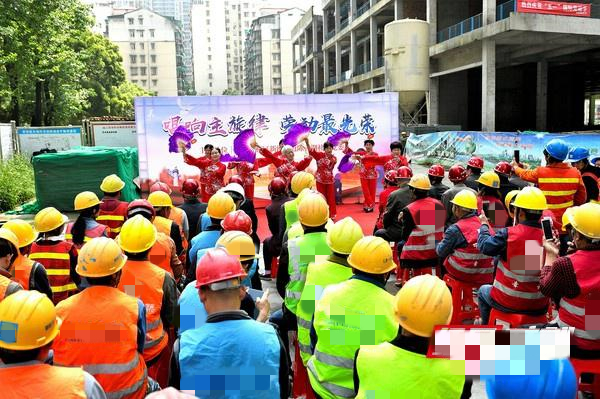helmet: (1, 289, 63, 350), (395, 275, 452, 338), (195, 245, 249, 292), (194, 245, 245, 290), (75, 237, 127, 277), (347, 235, 396, 275), (349, 236, 396, 274), (328, 216, 364, 255), (119, 215, 157, 251), (215, 231, 259, 257), (571, 202, 600, 240), (1, 218, 38, 245), (298, 194, 329, 226), (511, 186, 548, 210), (35, 207, 68, 231), (220, 209, 253, 233), (206, 191, 234, 218), (449, 188, 477, 210), (74, 190, 103, 210), (291, 172, 316, 194), (99, 173, 127, 192), (545, 138, 568, 161), (1, 227, 19, 256), (221, 182, 246, 202), (127, 198, 154, 214), (475, 172, 500, 189), (266, 178, 286, 197), (148, 191, 171, 207), (182, 180, 201, 197), (449, 165, 469, 181), (569, 146, 590, 161), (494, 161, 511, 175), (427, 164, 445, 177), (467, 157, 484, 169), (152, 182, 171, 192), (384, 169, 397, 183), (397, 166, 412, 178)
person: (170, 245, 296, 399), (52, 237, 158, 399), (306, 236, 399, 399), (352, 274, 473, 399), (1, 289, 106, 399), (477, 186, 555, 328), (295, 216, 366, 368), (540, 200, 600, 370), (119, 216, 179, 346), (279, 192, 331, 323), (434, 188, 496, 287), (511, 137, 590, 214), (187, 189, 239, 281), (397, 173, 446, 266), (34, 205, 80, 293), (1, 216, 53, 291), (302, 134, 338, 220), (341, 138, 378, 214), (279, 171, 322, 233), (67, 188, 108, 244), (1, 228, 32, 293), (383, 165, 412, 232), (97, 172, 130, 230), (264, 177, 286, 255), (180, 145, 226, 181), (569, 143, 598, 200), (353, 141, 411, 167), (253, 141, 301, 172), (475, 172, 505, 217), (178, 178, 206, 220), (377, 169, 400, 214), (443, 165, 472, 196), (427, 164, 449, 194)
vest: (310, 278, 398, 399), (54, 286, 148, 399), (174, 318, 284, 399), (358, 345, 466, 399), (491, 224, 549, 315), (120, 259, 168, 361), (298, 253, 341, 361), (556, 250, 600, 350), (1, 365, 89, 399), (455, 219, 493, 282), (407, 199, 443, 265), (33, 241, 72, 296), (539, 164, 580, 215), (287, 232, 320, 286), (12, 257, 36, 287), (99, 200, 127, 224)
